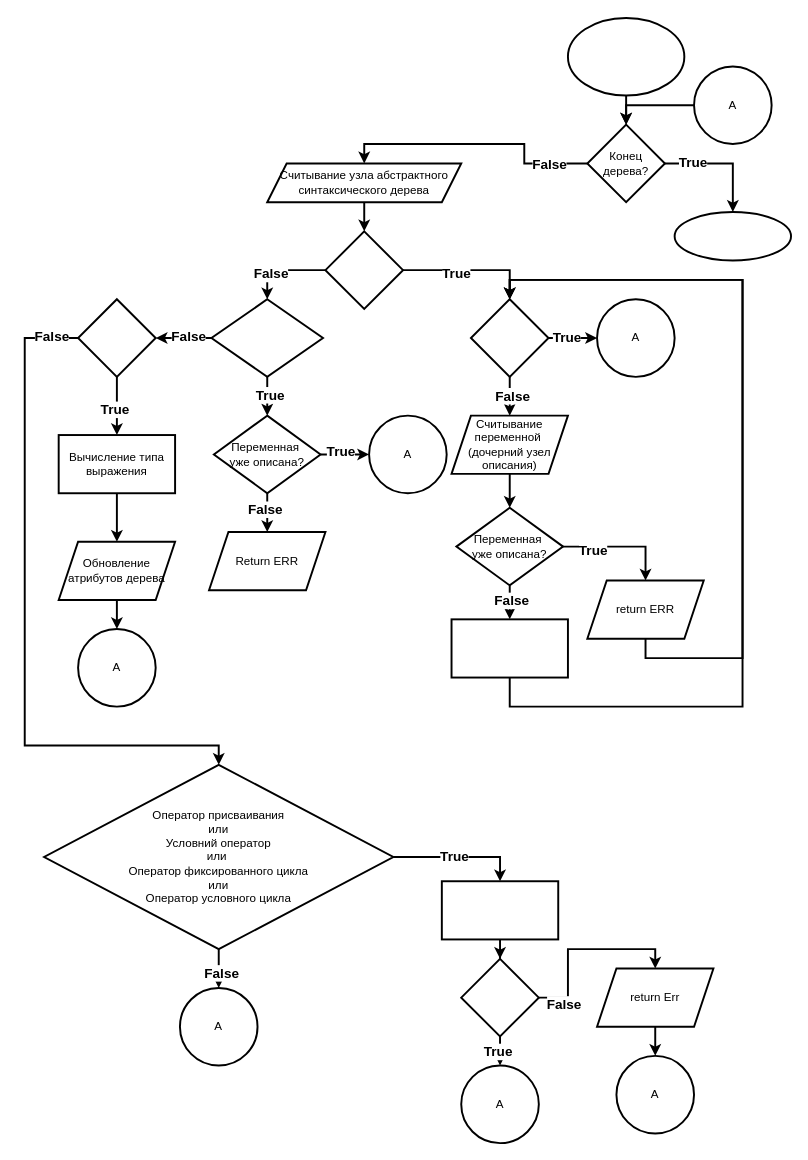
Some shapes in this 808 by 1160 pixel diagram are drawn without their labels. The shapes that lost their labels are listed below. From the top down, each one's centre as x and y in pixels, then its label:
At pixel 625 56: "Семантический анализ".
At pixel 732 235: "Конец семантического анализа".
At pixel 364 269: "Описание".
At pixel 116 337: "Выражение".
At pixel 266 337: "Идентификатор".
At pixel 509 337: "Конец описания?".
At pixel 509 648: "Добавление переменной и типа в таблицу описанных переменных".
At pixel 499 910: "Проверка соответствия типов данных".
At pixel 499 997: "err!=-1".
